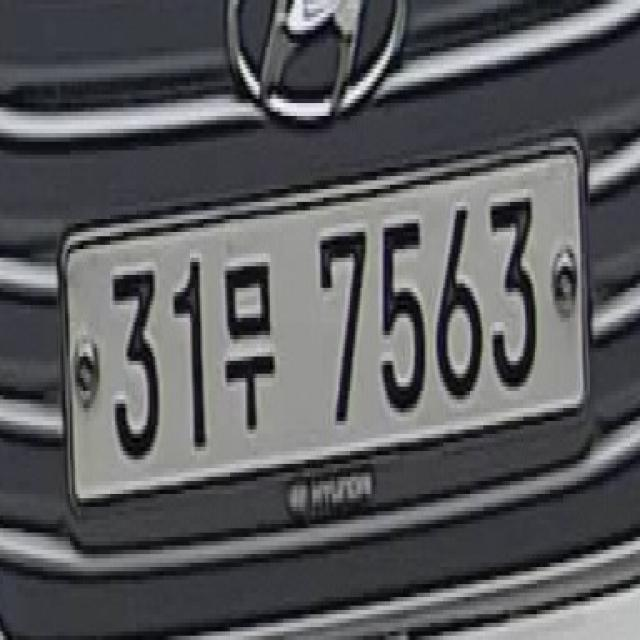1: (172, 254, 215, 456)
3: (485, 189, 543, 399), (108, 262, 164, 477)
5: (375, 210, 428, 421)
6: (435, 206, 483, 404)
7: (315, 223, 370, 430)
license_plate: (62, 142, 590, 515)
mu: (218, 258, 277, 434)
